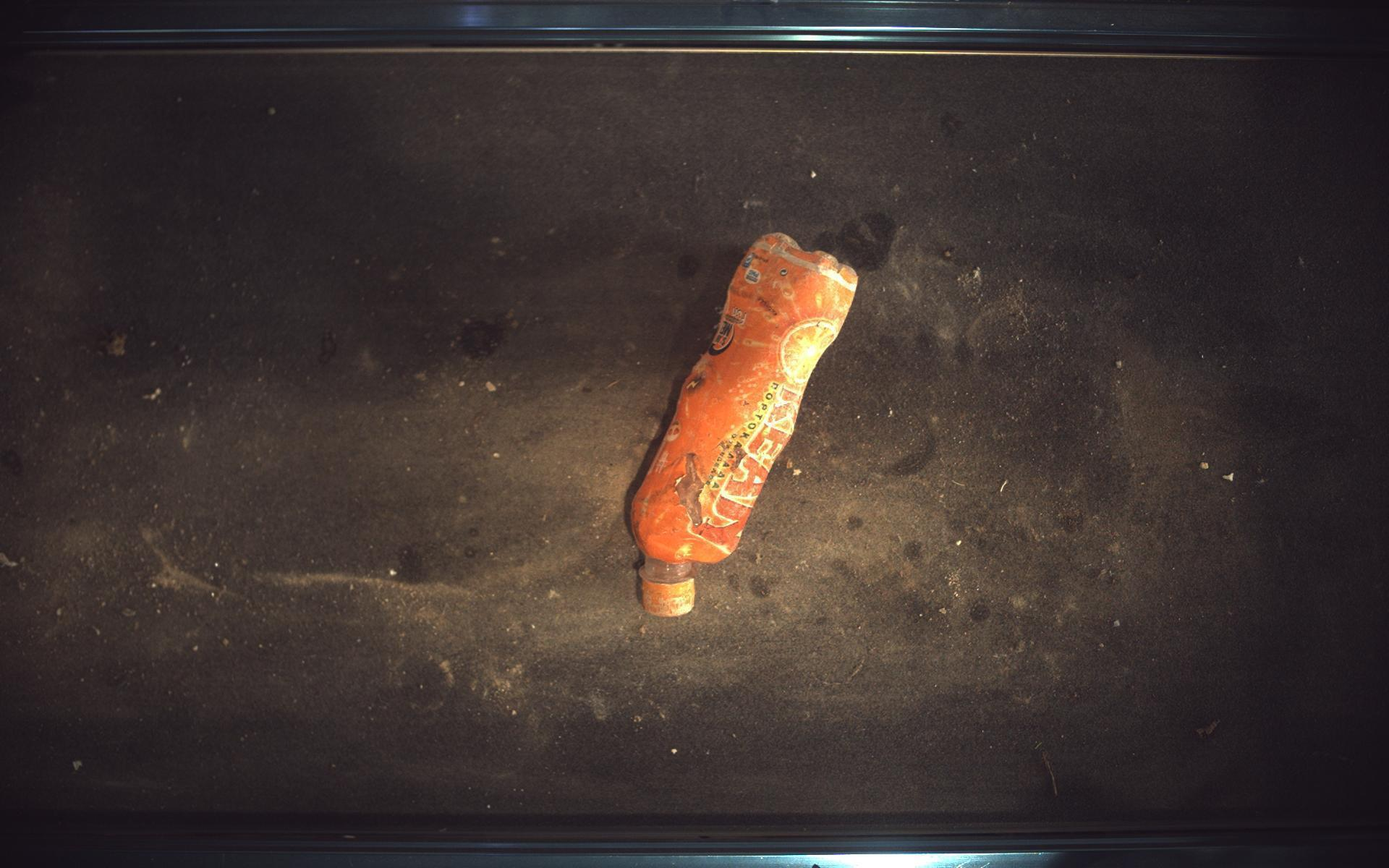general_w: (632, 232, 859, 617)
